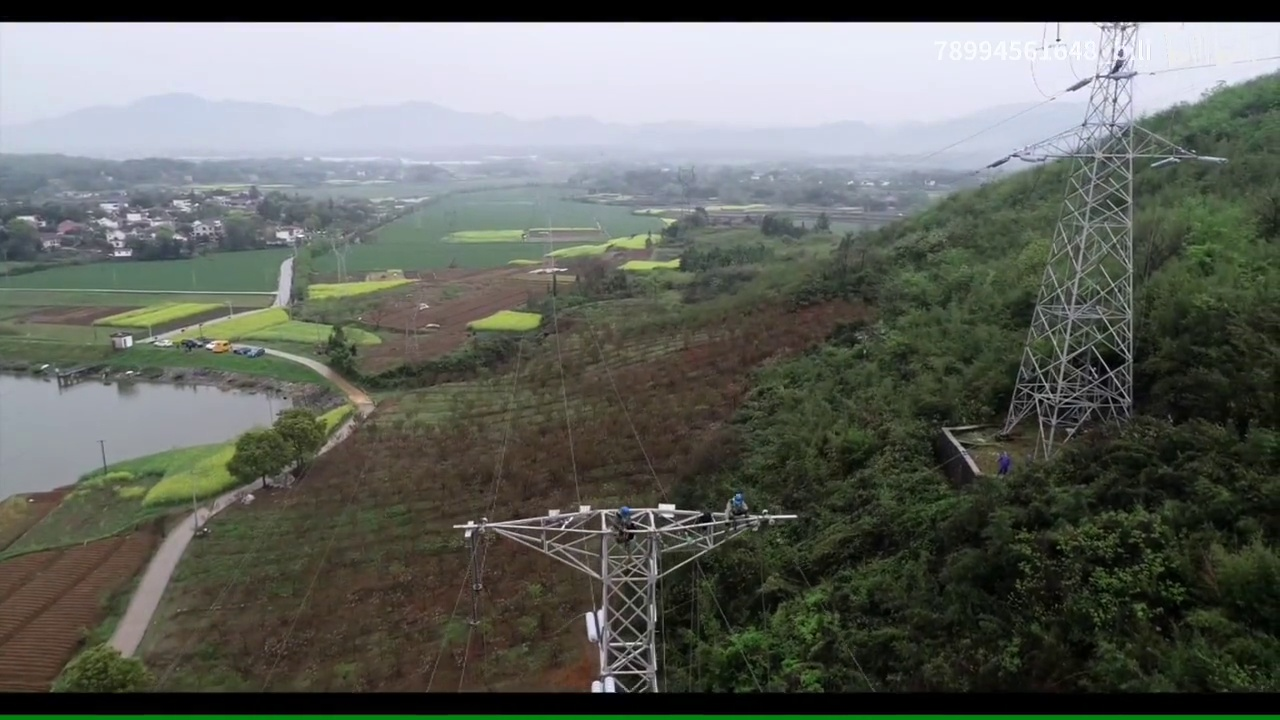tower_up: (993, 26, 1167, 455), (456, 482, 804, 688)
